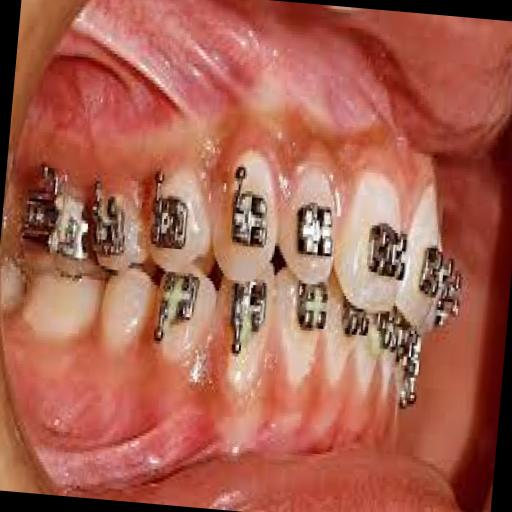correct_brace: (146, 158, 218, 274), (149, 274, 218, 387), (225, 163, 275, 252), (362, 214, 410, 285), (292, 198, 338, 260), (160, 274, 202, 324)
incorrect_brace: (275, 152, 346, 286), (150, 192, 191, 254)
